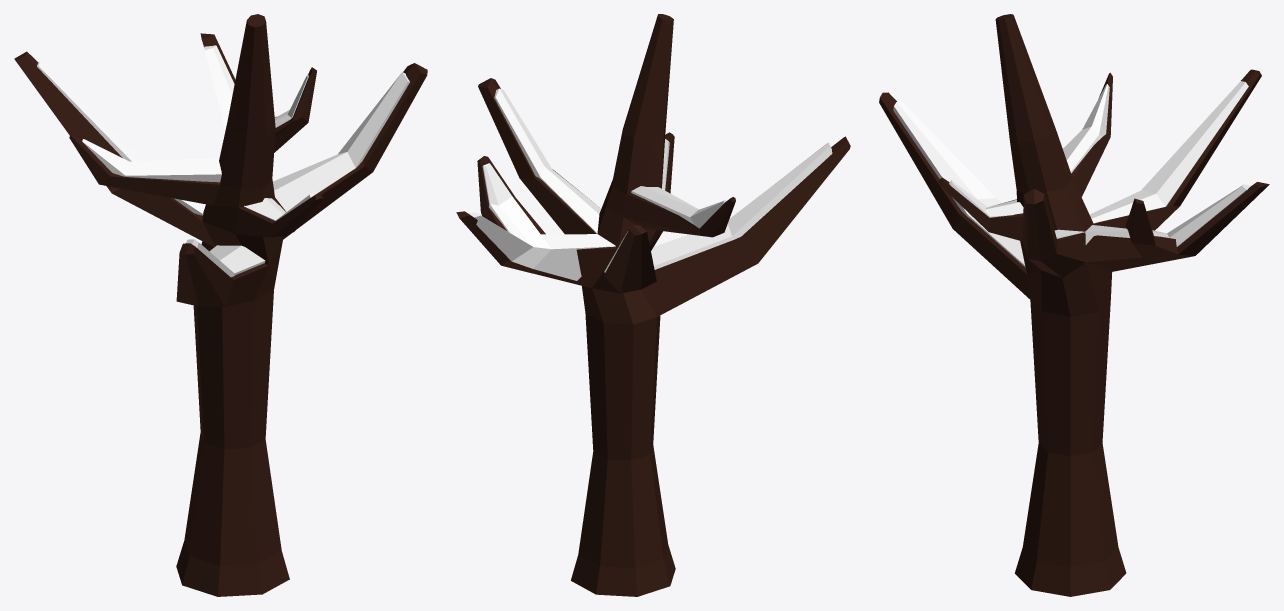
Rendered from Snow_Tree_1.fbx.
3 renders of one model, left to right at view 1: azimuth 30°, elevation 25°; view 2: azimuth 150°, elevation 25°; view 3: azimuth 270°, elevation 25°, orthographic. The views are drawn at different scales.
Parts seen in each view (by area): view 1: Snow_tree_1; view 2: Snow_tree_1; view 3: Snow_tree_1.
Boxes of the visible parts, x1=… form: Snow_tree_1: x1=14, y1=14, x2=427, y2=596; Snow_tree_1: x1=456, y1=14, x2=850, y2=596; Snow_tree_1: x1=879, y1=14, x2=1269, y2=596.
Bounding box in the file's own units: 2.51 × 4.31 × 2.76.
Materials: 1 (1 with a texture image).
